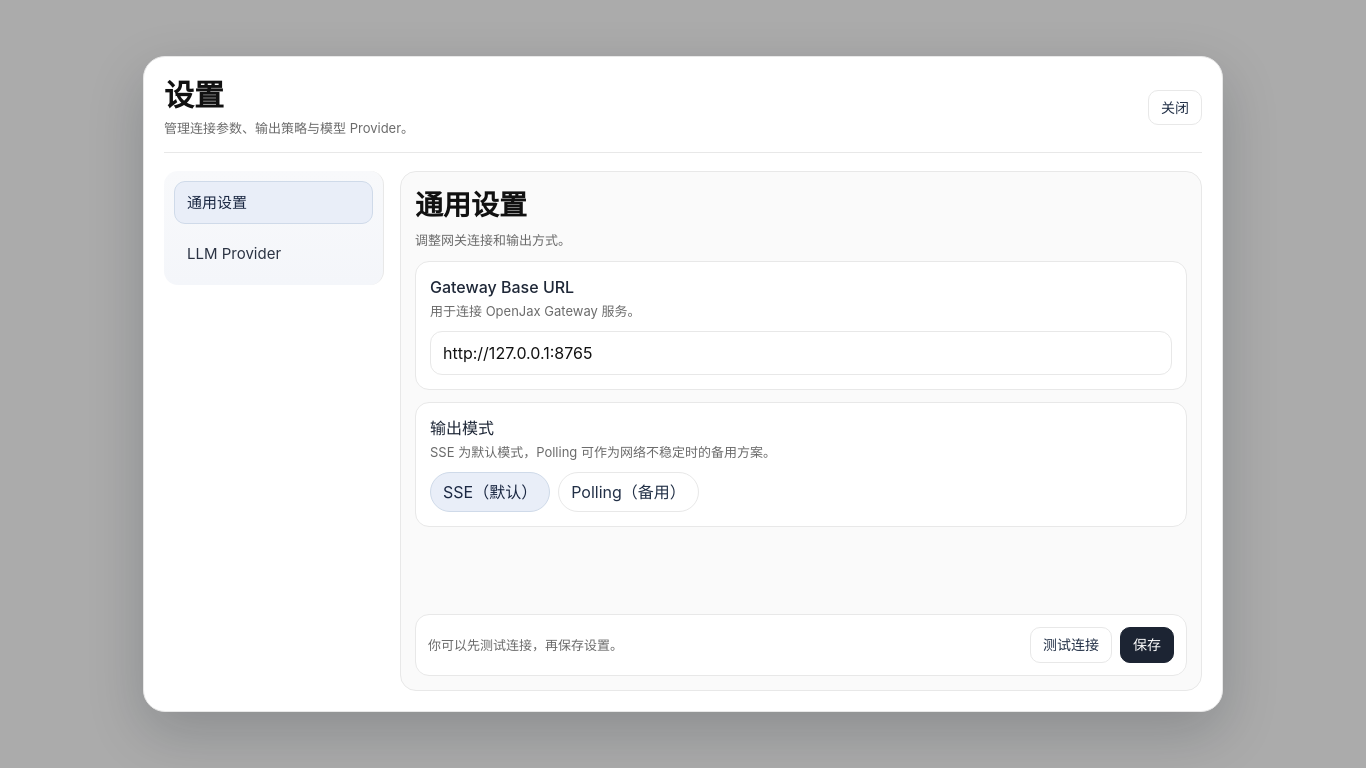
Test: SettingsModal › switches to provider tab and loads providers
Click the button "LLM Provider". click: (274, 253)
box: [174, 232, 373, 275]
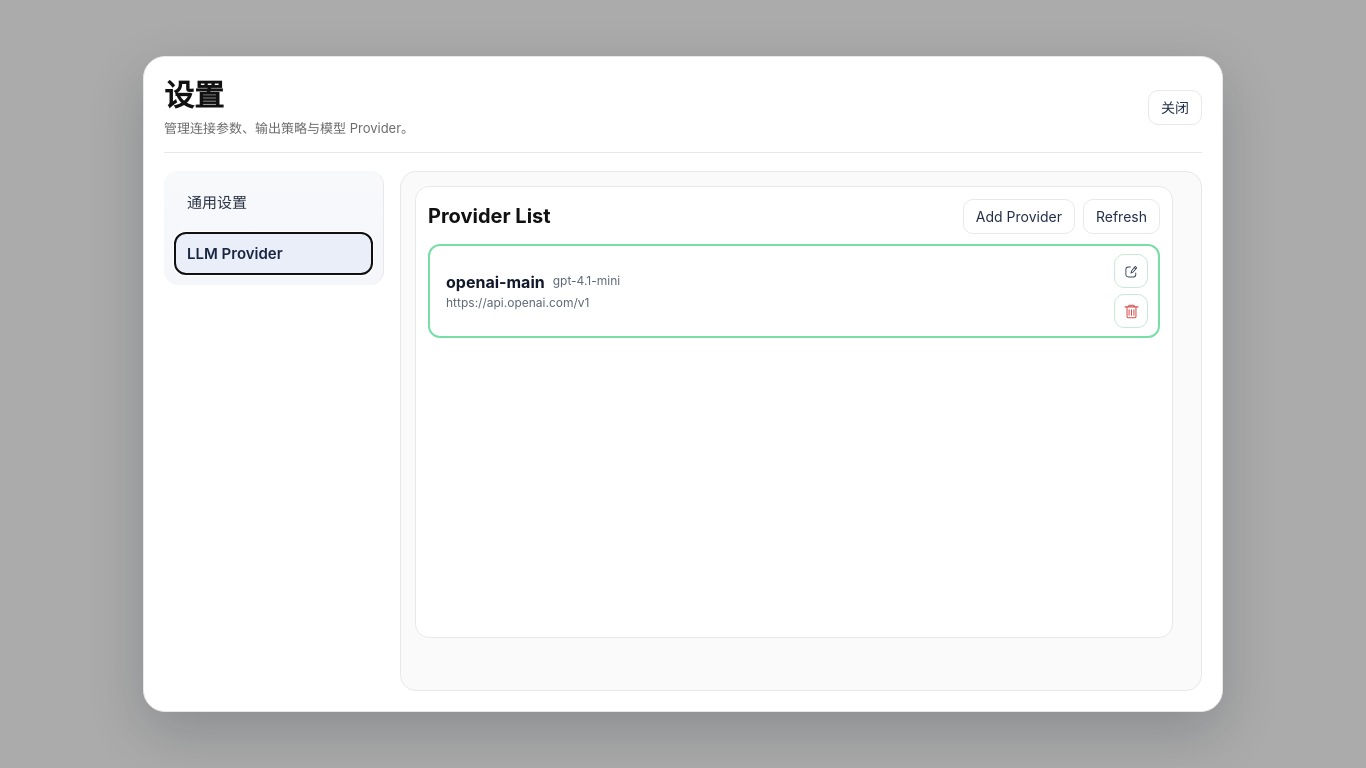
Check: the text "openai-main" is shown, box [446, 271, 545, 293]
Check: the heading "Provider List" is shown, box [428, 202, 551, 230]
